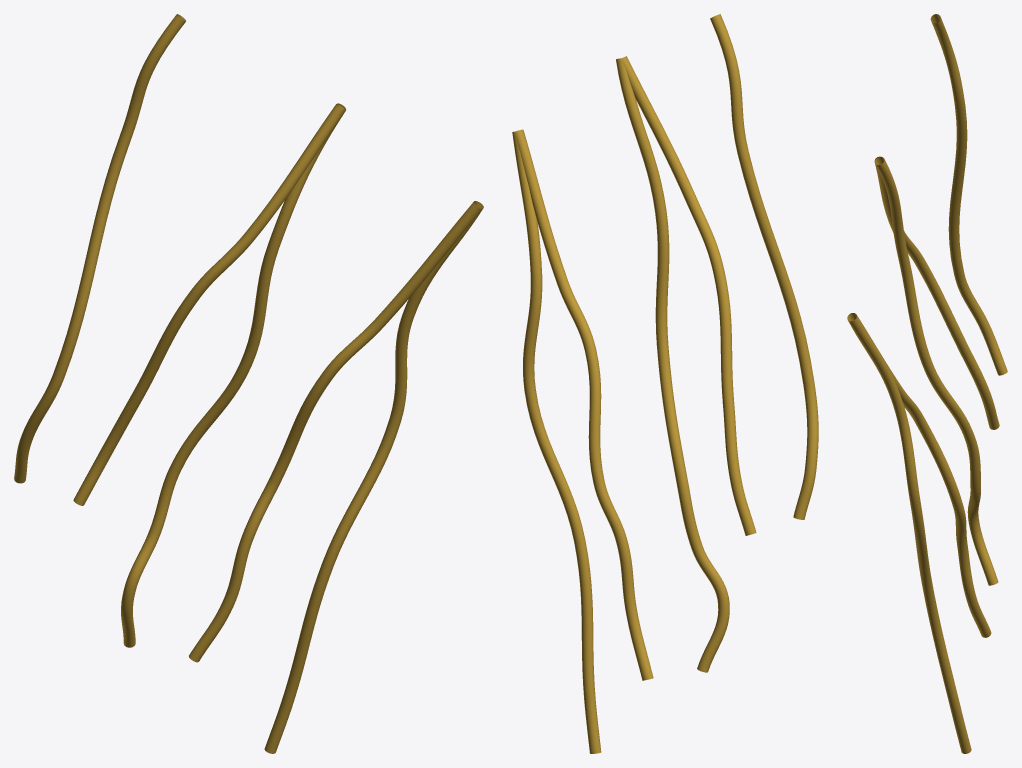
The picture shows the model from 3 angles, left to right: view 1: azimuth 30°, elevation 25°; view 2: azimuth 150°, elevation 25°; view 3: azimuth 270°, elevation 25°; orthographic projection. The views are drawn at different scales.
Parts seen in each view (by area): view 1: 右侧足底外侧神经趾足底固有神经; view 2: 右侧足底外侧神经趾足底固有神经; view 3: 右侧足底外侧神经趾足底固有神经.
Part boxes in pixels (bbox=[...]): 右侧足底外侧神经趾足底固有神经: bbox=[14, 14, 483, 753]; 右侧足底外侧神经趾足底固有神经: bbox=[512, 14, 818, 753]; 右侧足底外侧神经趾足底固有神经: bbox=[847, 14, 1007, 753].
Size of the model in its own units: 0.0551 by 0.1056 by 0.0223.
